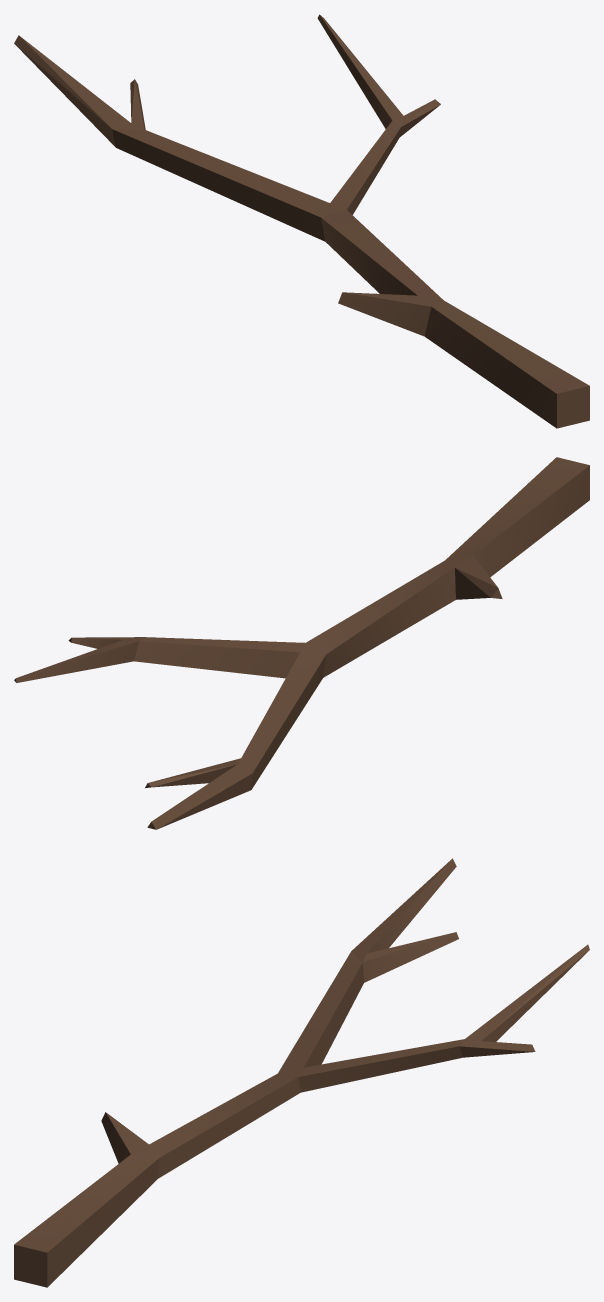
Rendered from BranchB.fbx.
3 views of the same model, one above another, from view 1: azimuth 30°, elevation 25°; view 2: azimuth 150°, elevation 25°; view 3: azimuth 330°, elevation 25° (orthographic).
Parts seen in each view (by area): view 1: BranchB; view 2: BranchB; view 3: BranchB.
Boxes of the visible parts, x1,y1,x2,y2 form: BranchB: [14, 14, 589, 428]; BranchB: [14, 457, 589, 829]; BranchB: [14, 858, 589, 1287].
Size of the model in its own units: 83.82 by 23.39 by 264.
